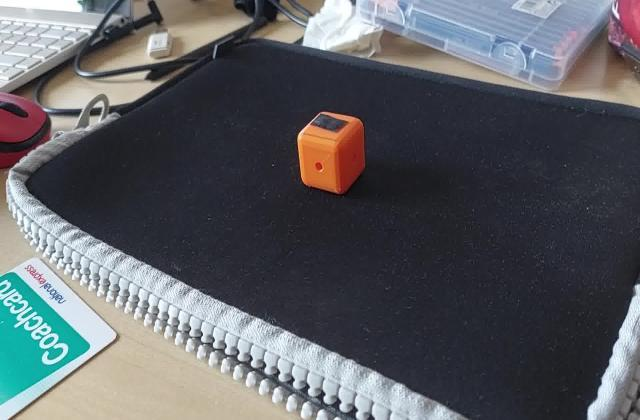black: (308, 112, 355, 136)
cube: (294, 108, 370, 196)
